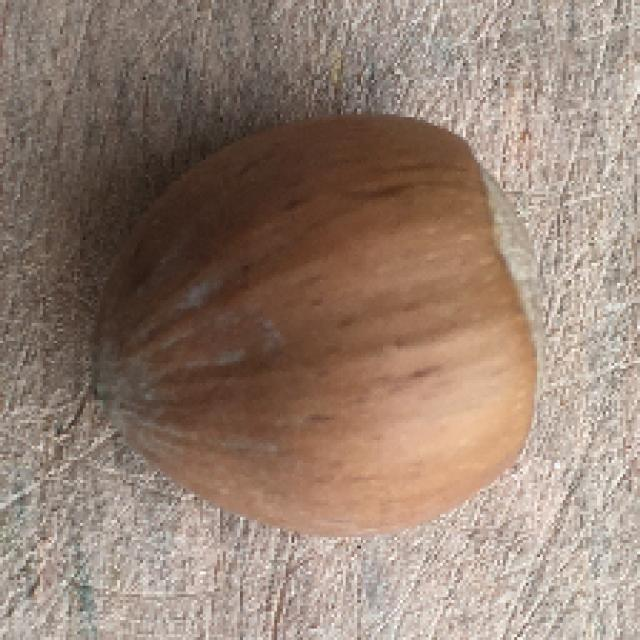qualityHazelnut: (88, 117, 542, 540)
